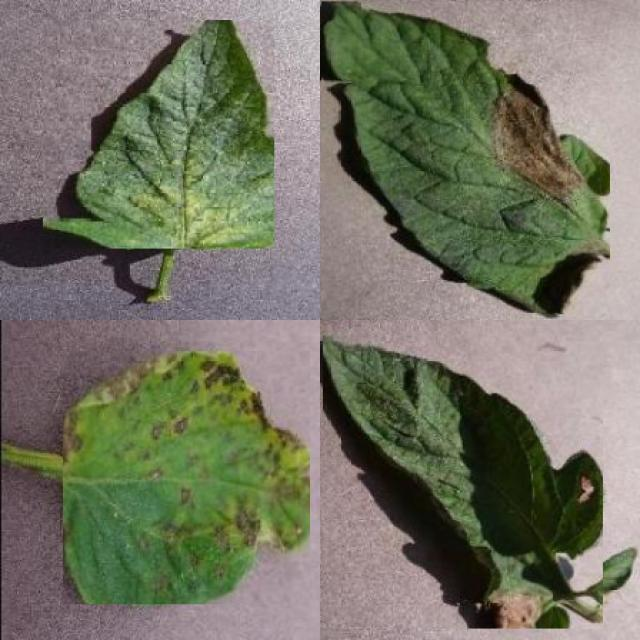Late Blight: (322, 2, 611, 319), (324, 332, 604, 628)
Septoria: (63, 351, 310, 605)
Spider Mites: (43, 21, 274, 249)
